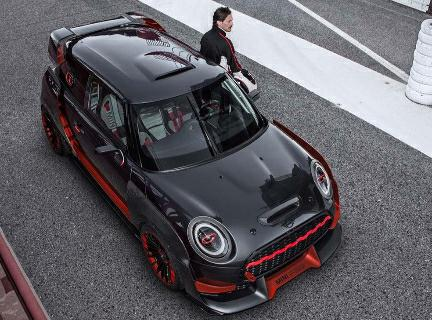MINI-JCW: (31, 8, 348, 315)
